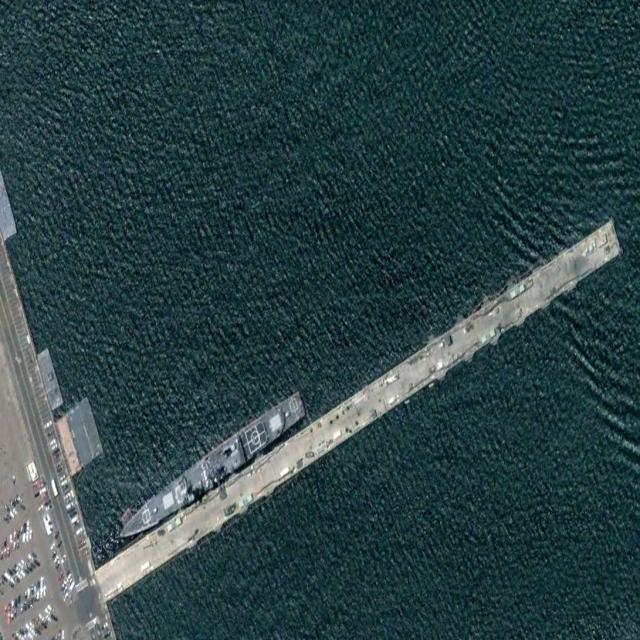Cruiser: (113, 387, 308, 551)
